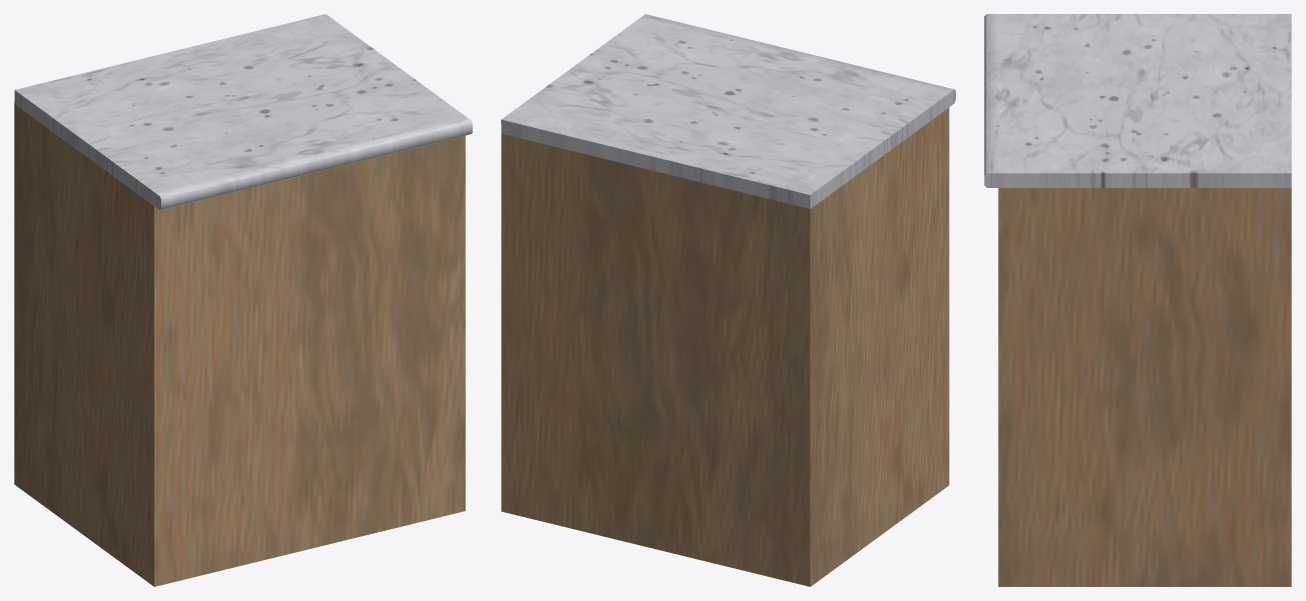
The model's file is CounterTop03.fbx.
The picture shows the model from 3 angles, left to right: view 1: azimuth 30°, elevation 25°; view 2: azimuth 150°, elevation 25°; view 3: azimuth 270°, elevation 25°; orthographic projection. The views are drawn at different scales.
Parts seen in each view (by area): view 1: CounterTop03; view 2: CounterTop03; view 3: CounterTop03.
Boxes of the visible parts, bbox=[...] form: CounterTop03: bbox=[14, 14, 472, 586]; CounterTop03: bbox=[501, 14, 955, 586]; CounterTop03: bbox=[984, 14, 1291, 586].
Bounding box in the file's own units: 70.04 × 84.79 × 57.11.
1 material, 1 textured.
